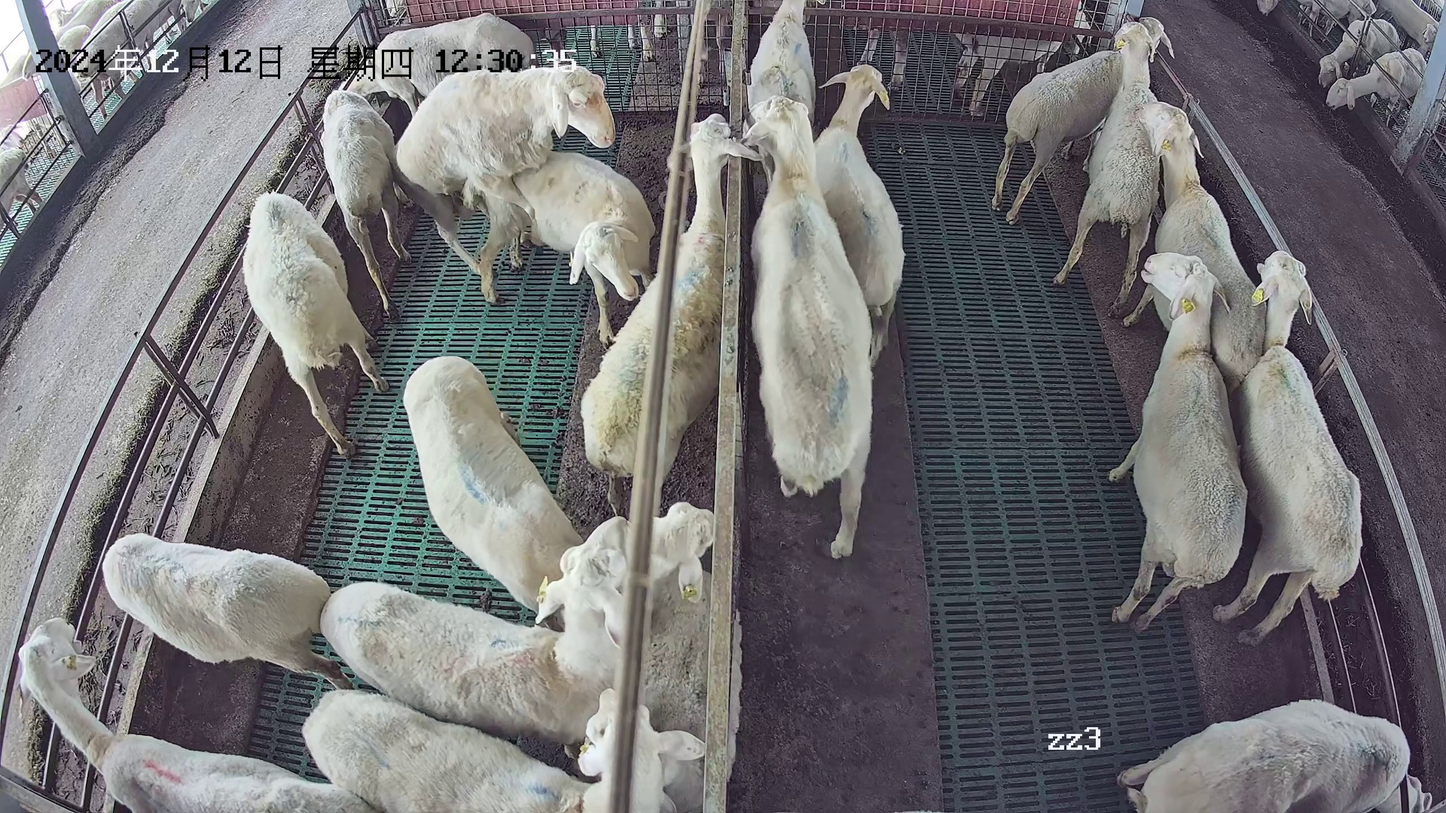Smounting: (388, 64, 659, 348)
mounted: (476, 148, 657, 345)
